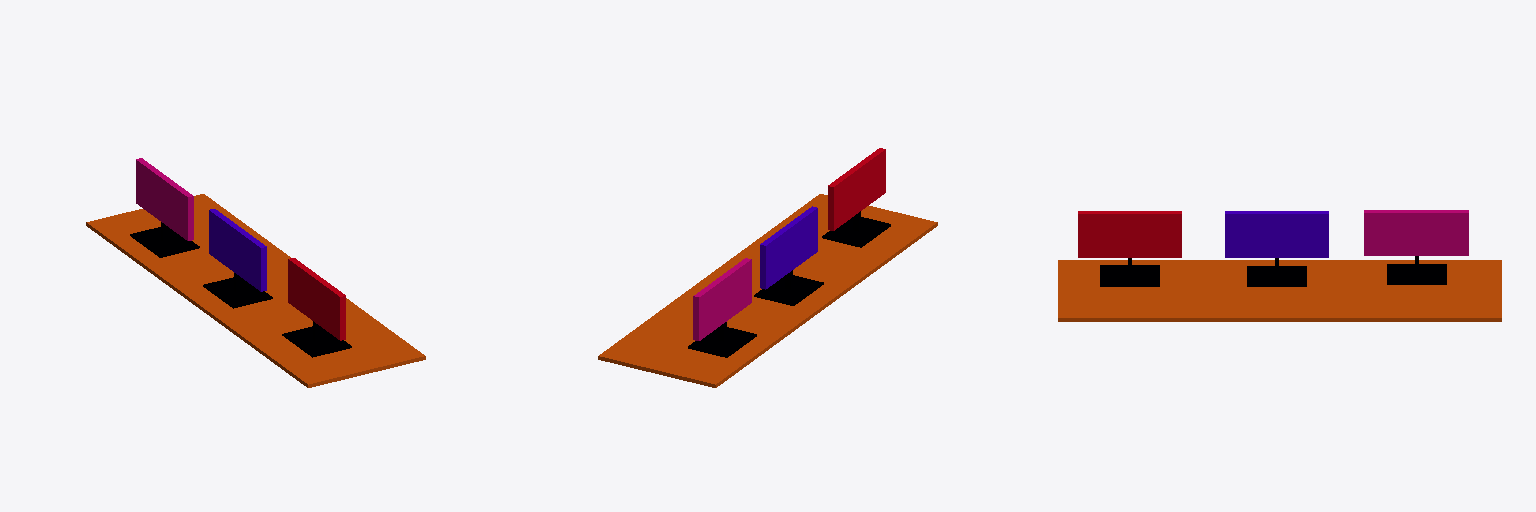
The model's file is mesag.obj.
The picture shows the model from 3 angles: view 1: azimuth 30°, elevation 25°; view 2: azimuth 150°, elevation 25°; view 3: azimuth 270°, elevation 25°; orthographic projection.
Parts seen in each view (by area): view 1: telajunta; view 2: telajunta; view 3: telajunta.
Part boxes in pixels (x1,y1,x2,y2): telajunta: (86,158,425,387); telajunta: (598,148,937,387); telajunta: (1058,210,1501,321).
Size of the model in its own units: 1.98 by 1.19 by 6.46.